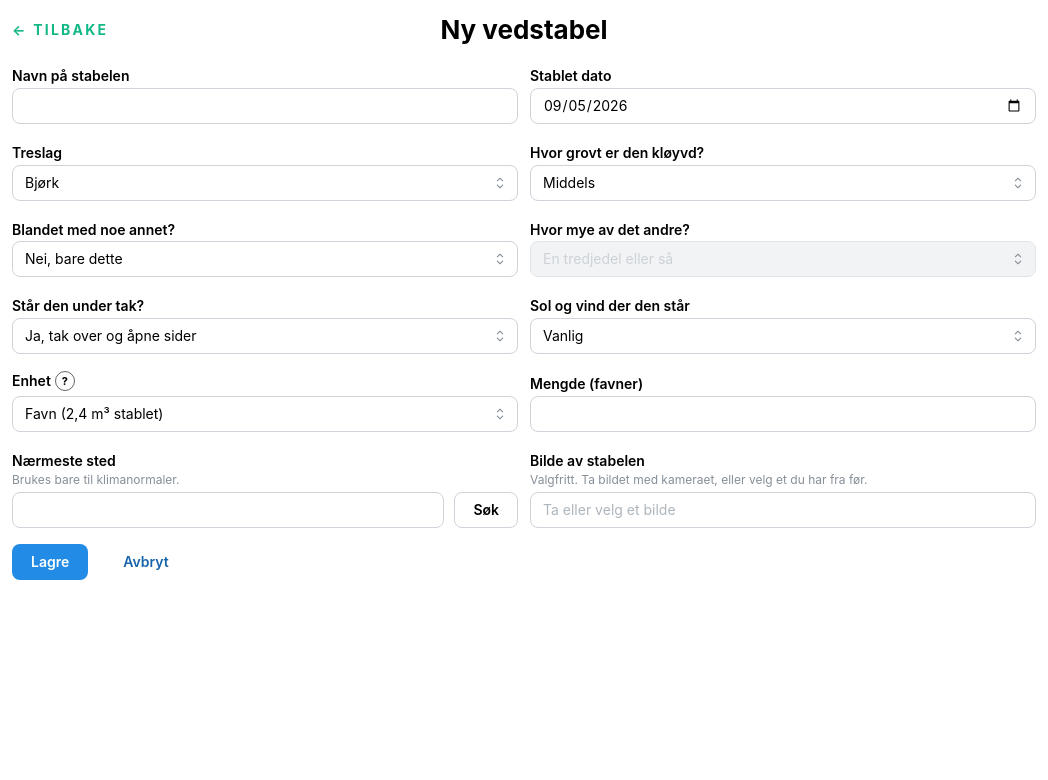
Scenario: AddStackForm › will not save without a name
In the dropdown labelled "Nærmeste sted": [228, 510] box [12, 492, 444, 528], type "Oslo"
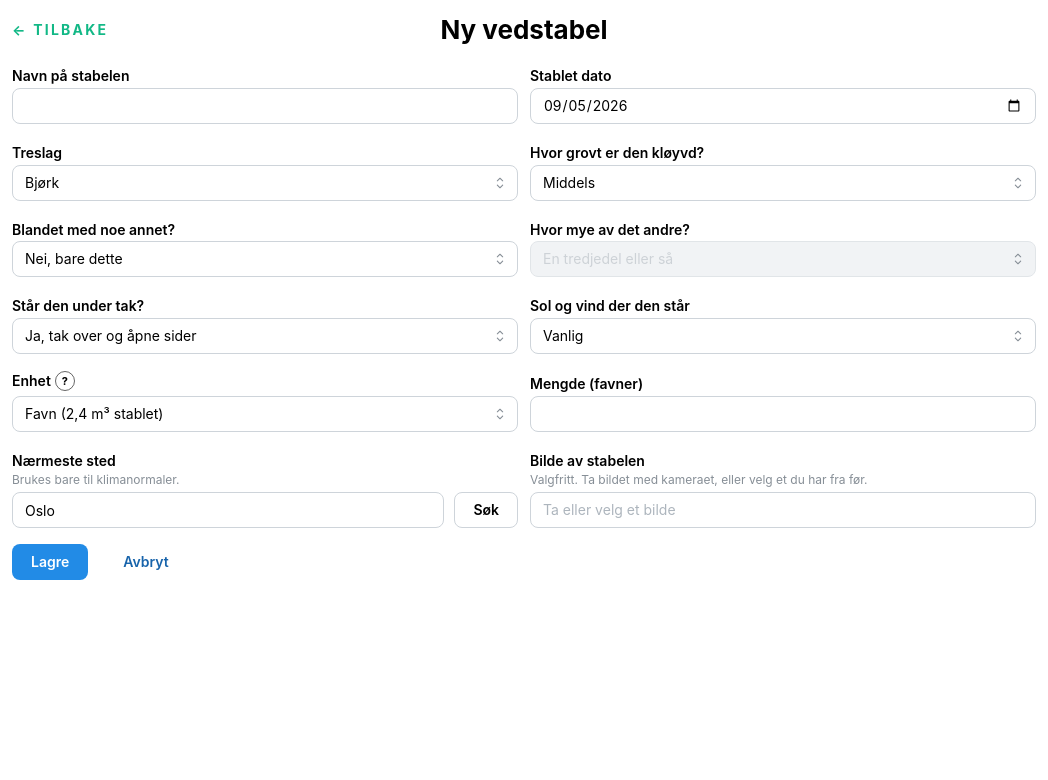
Click the button "Søk": [486, 510] box [454, 492, 518, 528]
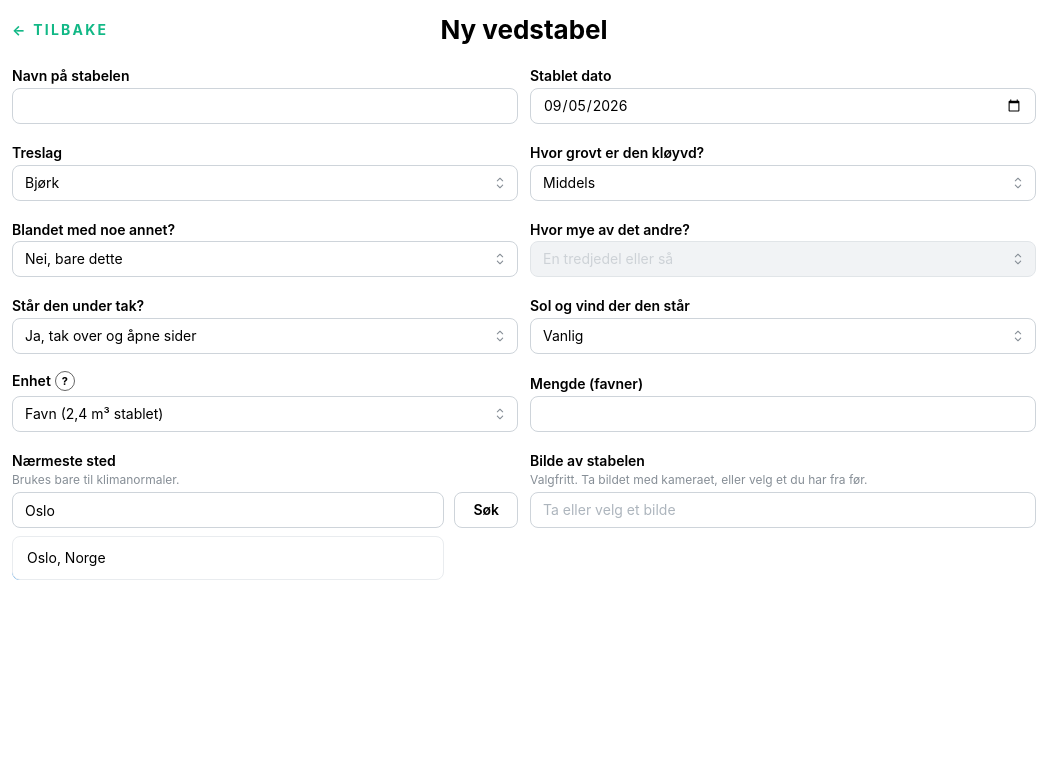
Expected: the option "Oslo, Norge" is shown
Click the option "Oslo, Norge": [66, 558] box [27, 549, 106, 566]
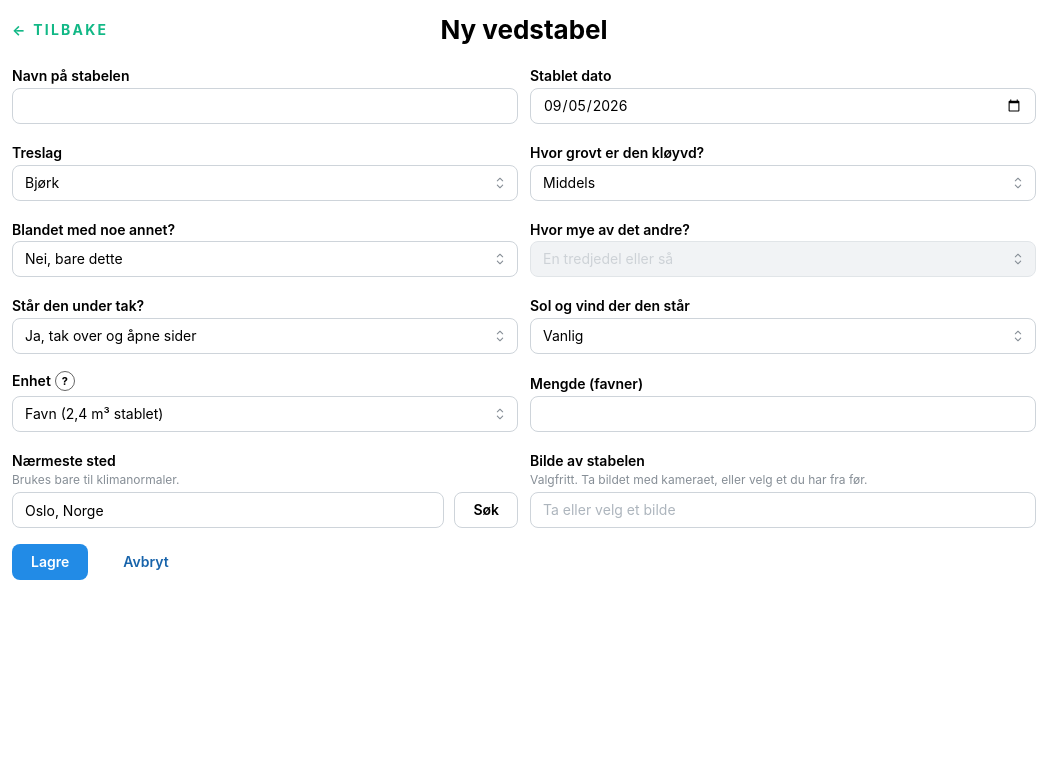
Click the button "Lagre": [50, 562] box [12, 544, 88, 580]
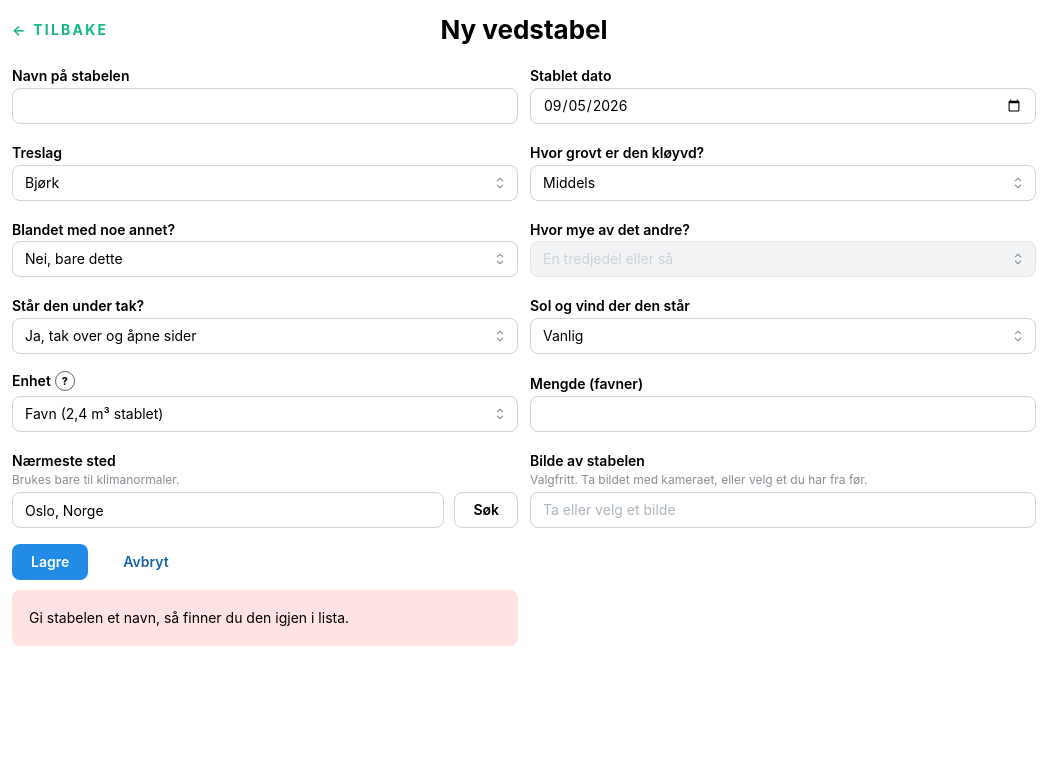
Expected: the text "Gi stabelen et navn, så finner du den igjen i lista." is shown, [29, 609, 349, 626]
